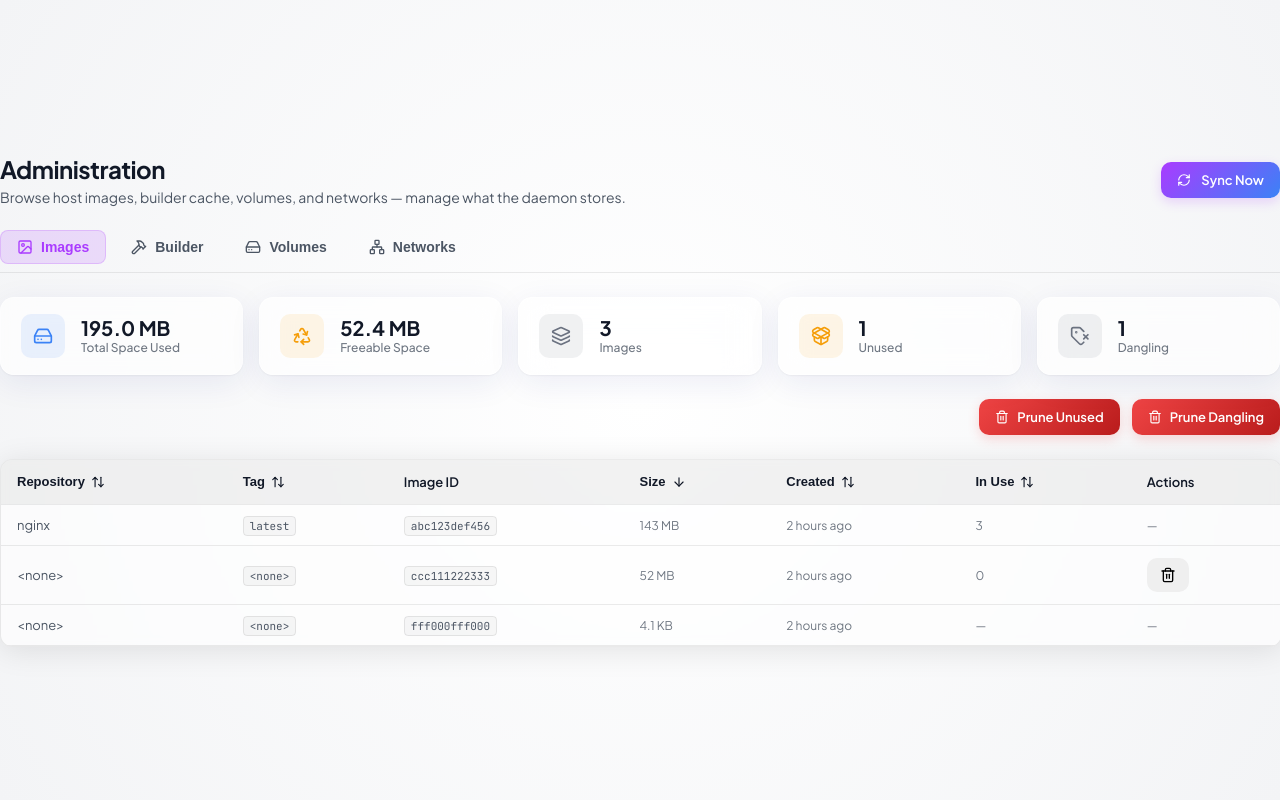
Test: Administration Component › confirms the dangling prune, reports daemon bytes, and refreshes
Expected: the text "ccc111222333" is shown, [404,566,497,586]
Click the button "Prune Dangling": coordinates (1206, 416) [1132,398,1279,434]
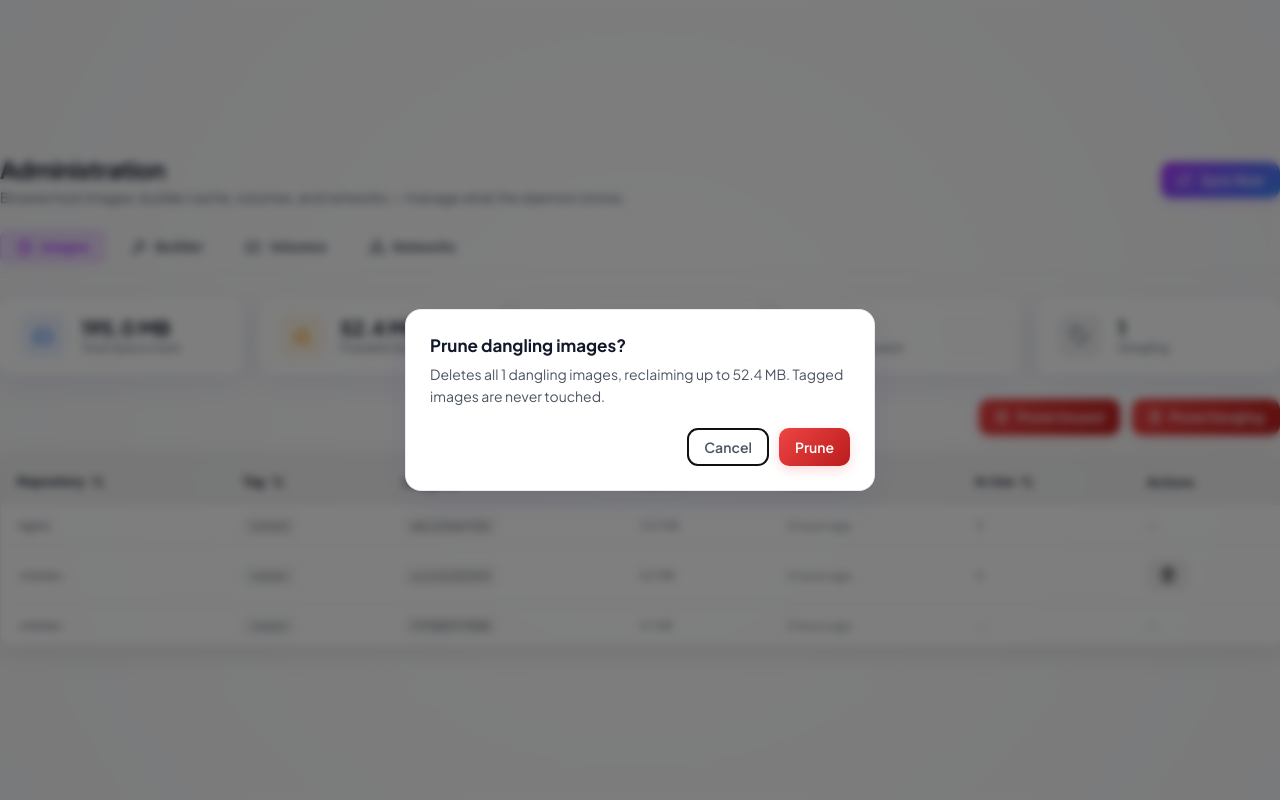
Click the button "Prune": coordinates (814, 447) [779,428,850,466]
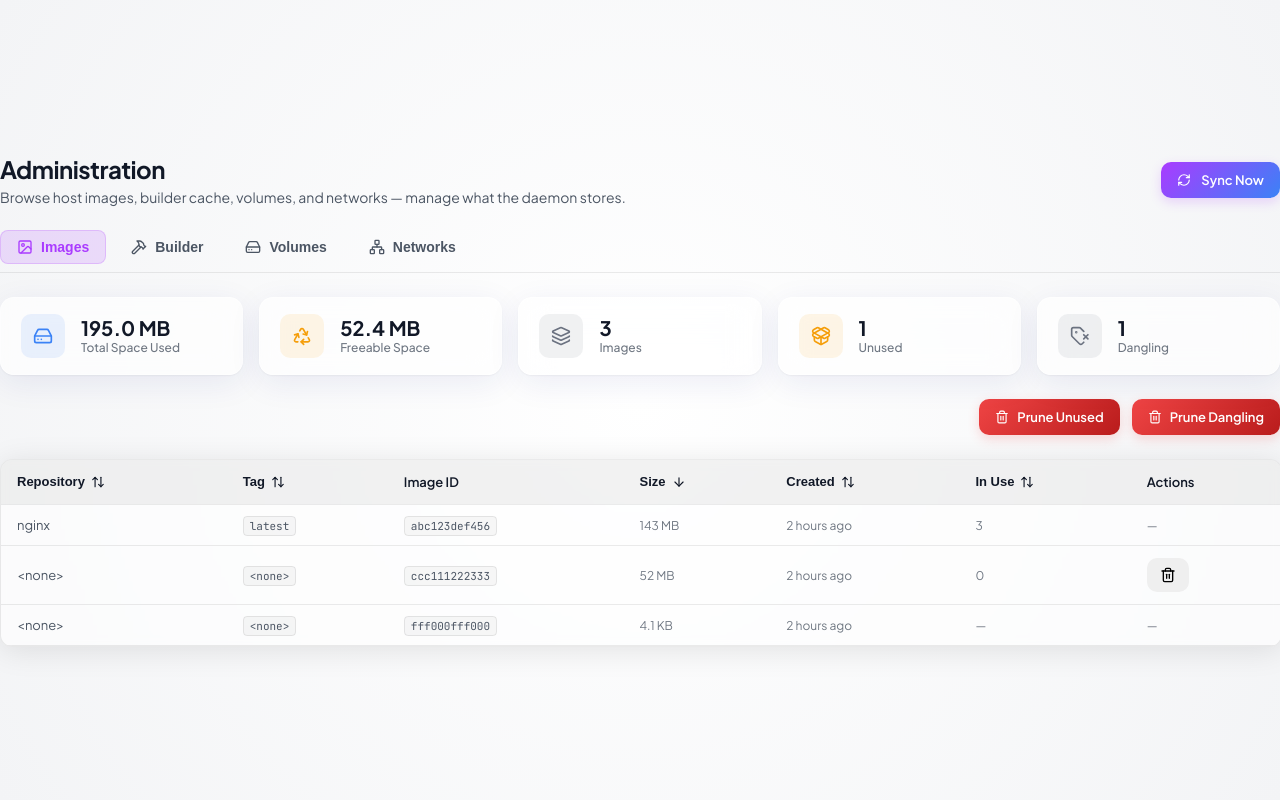
Now the dialog is gone
